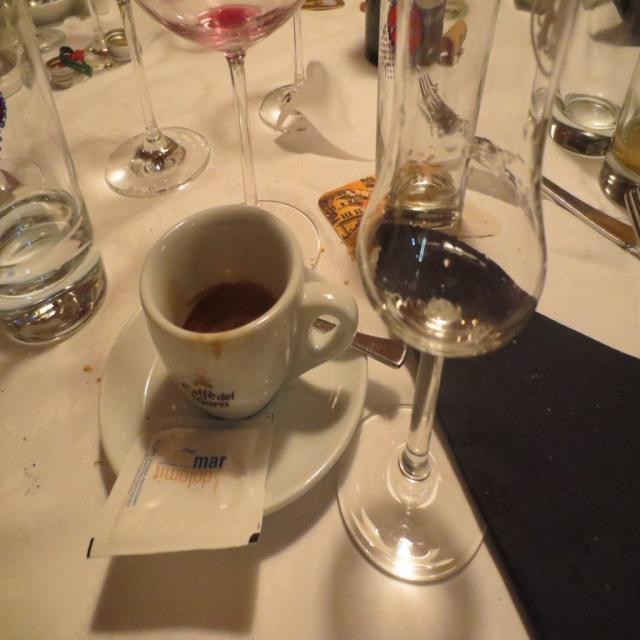Coffee: (181, 284, 278, 334)
Tea: (182, 280, 274, 333)
